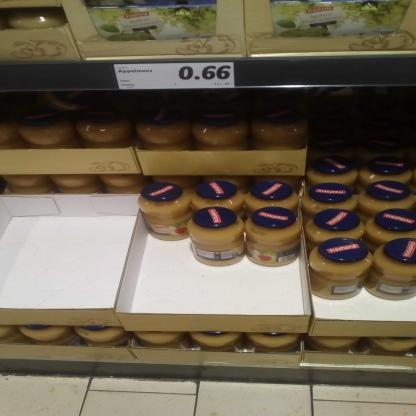prtg: (115, 63, 236, 90)
